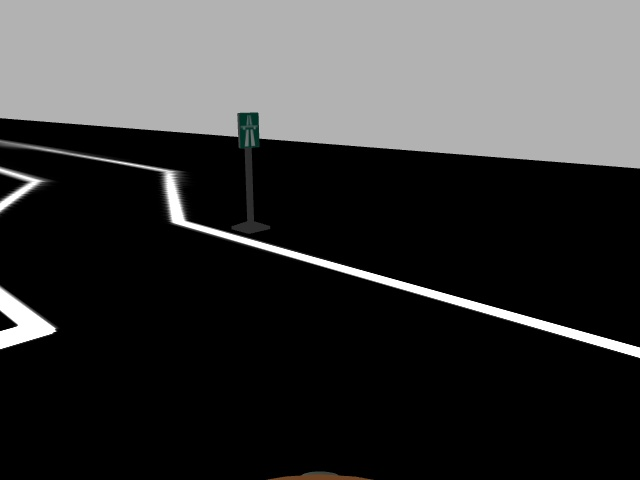enter_highway: (235, 111, 262, 149)
